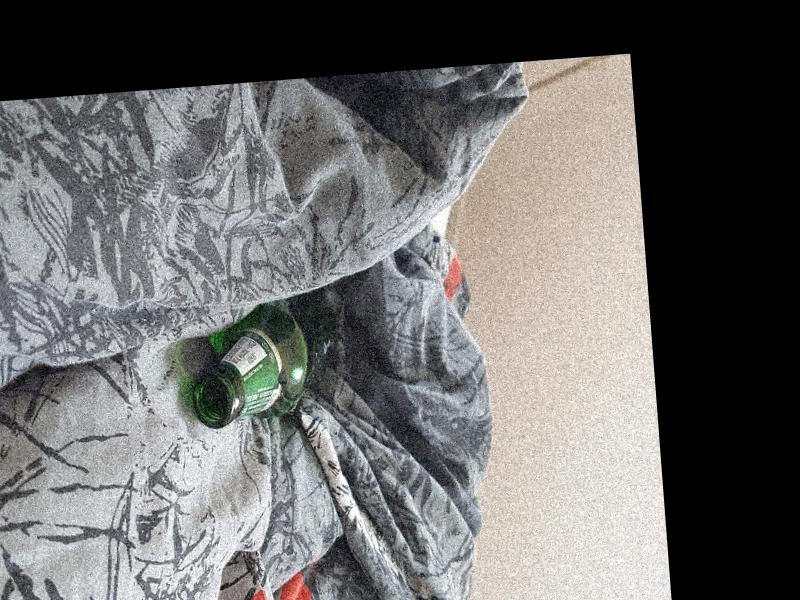Beer: (185, 299, 339, 426)
